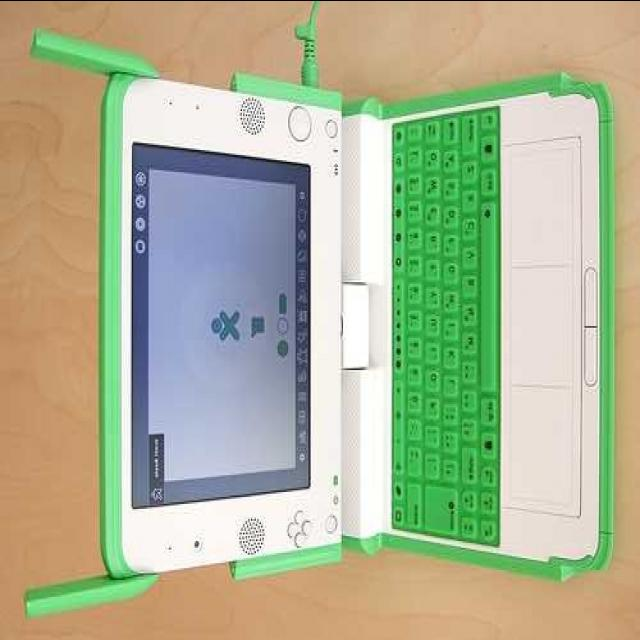laptop: (104, 11, 620, 596)
